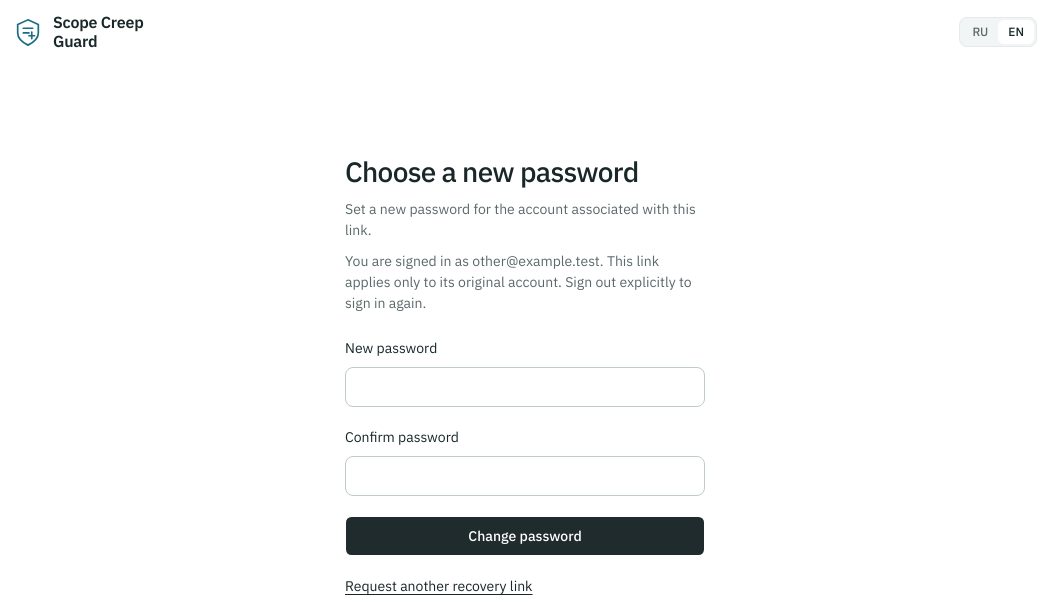
Test: keeps an authenticated different account until the explicit sign-out action
Later steps or results of the test are not shown.
Expected: the text "You are signed in as other@example.test" is shown, [345,252,692,312]
In the password field labelled "New password": (525, 387) [345,367,705,407], type "replacement-password"
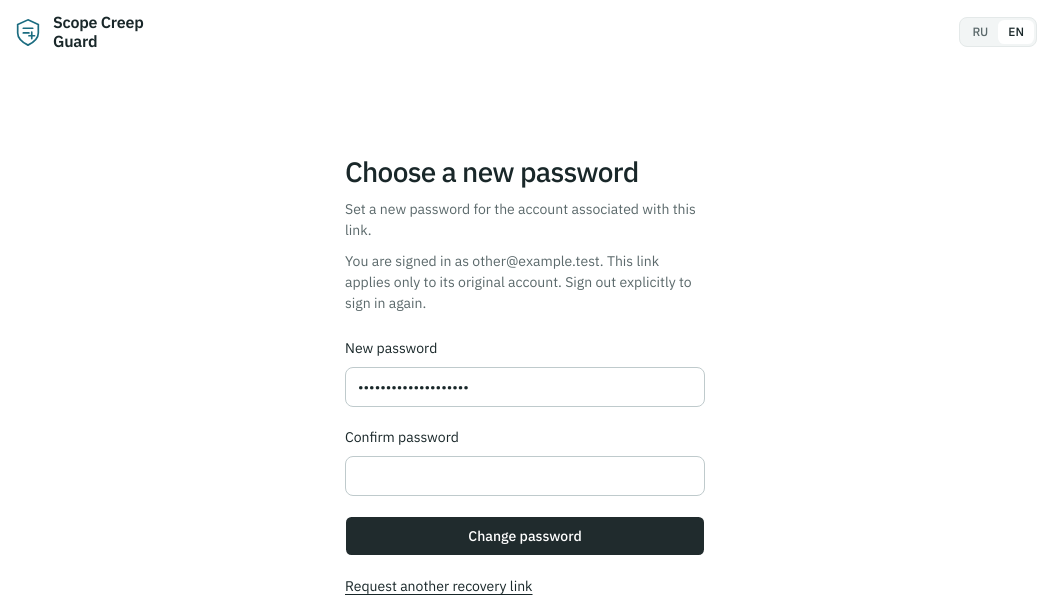
In the password field labelled "Confirm password": (525, 476) [345,456,705,496], type "replacement-password"
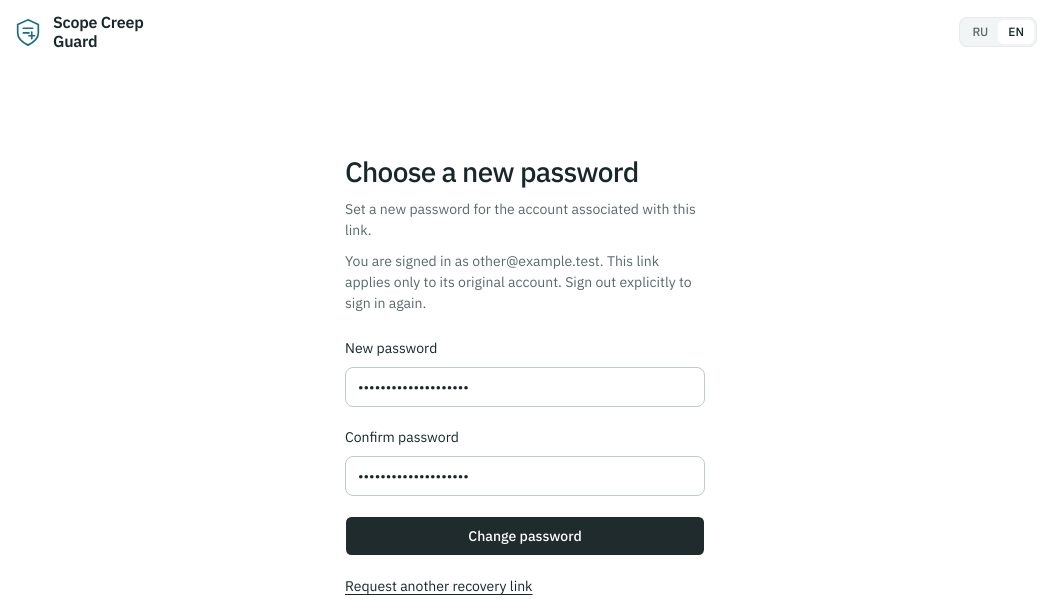
Click the button "Change password": click(525, 536) [345,516,705,556]
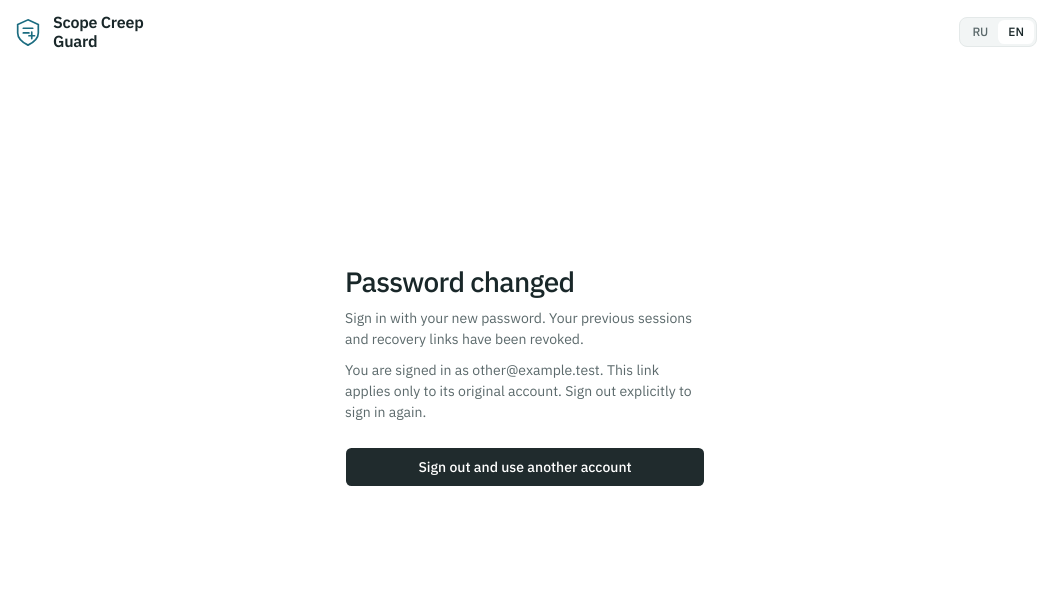
Expected: the heading "Password changed" is shown, [345,263,574,300]
